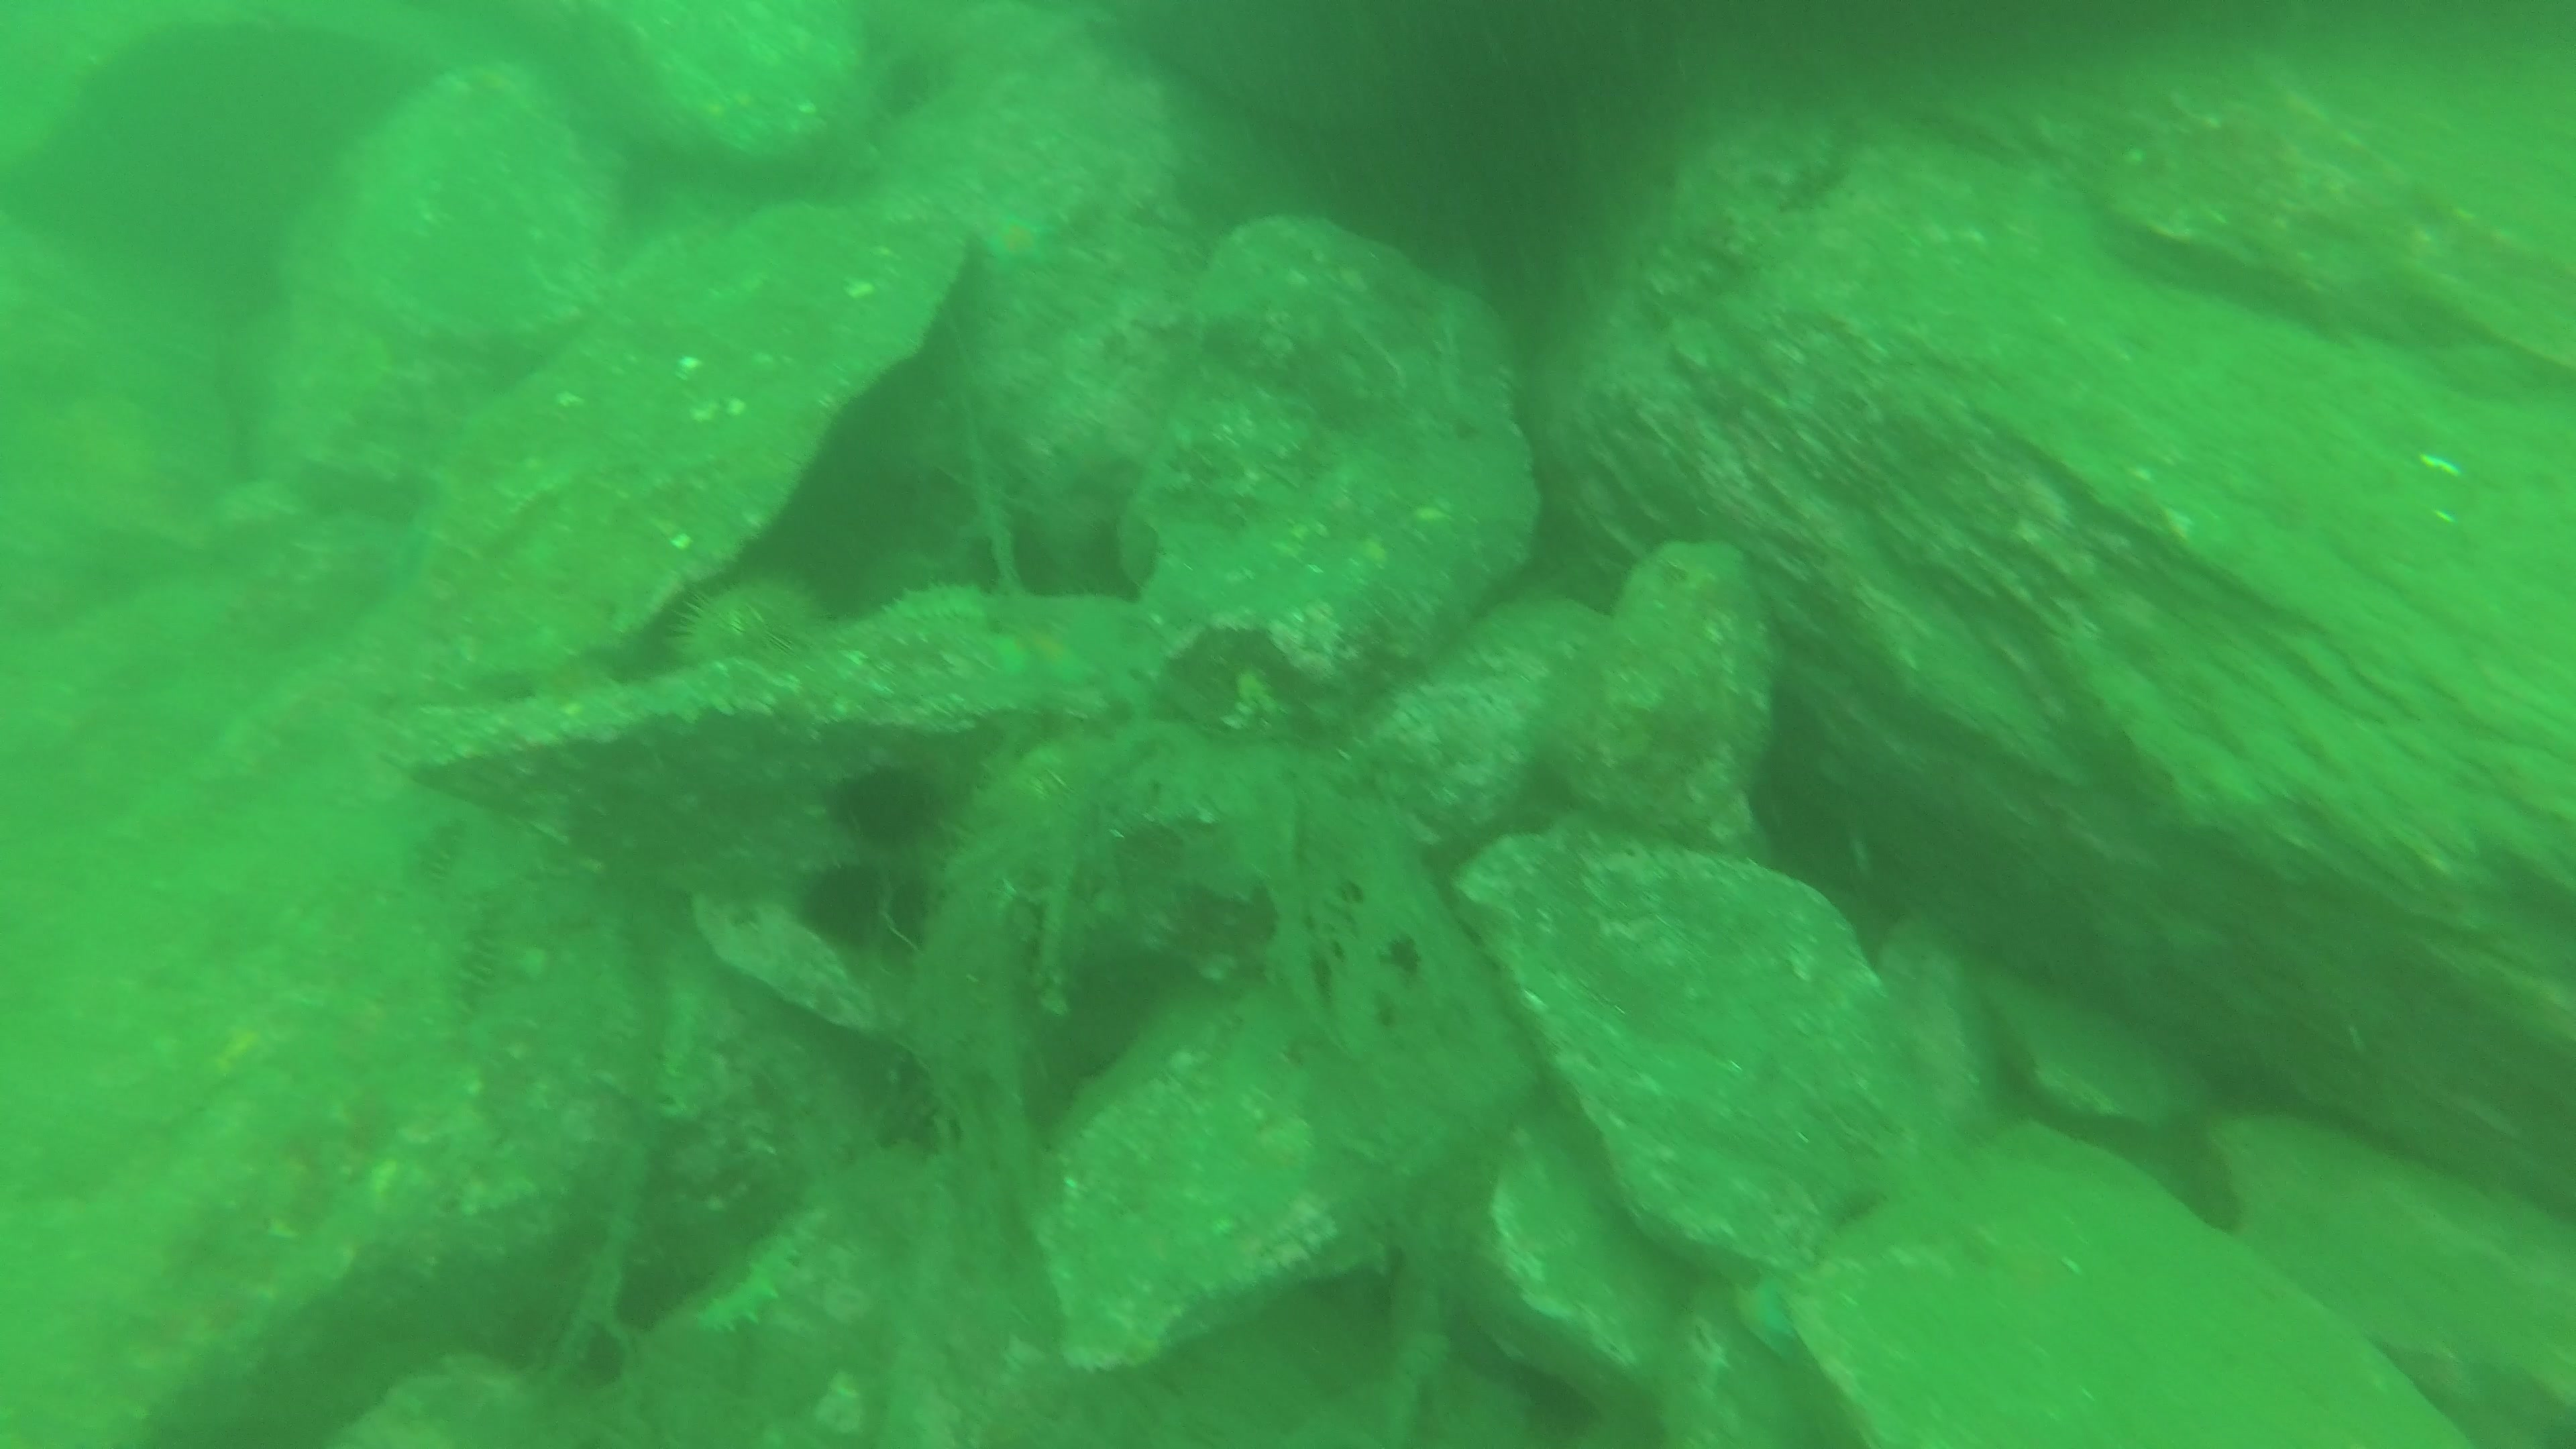echinus: (655, 559, 828, 688), (798, 853, 939, 961), (830, 766, 936, 846)
holothurian: (685, 1191, 835, 1341), (442, 888, 511, 1039)
